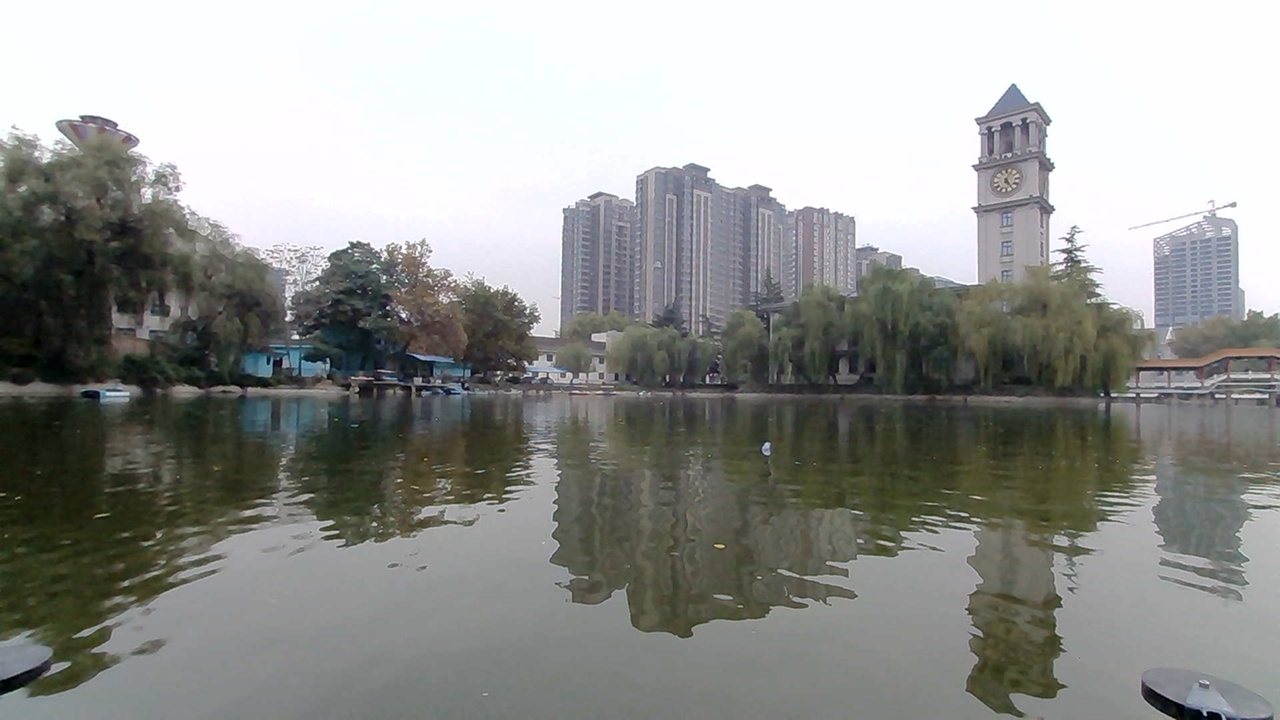bottle: (745, 429, 797, 461)
